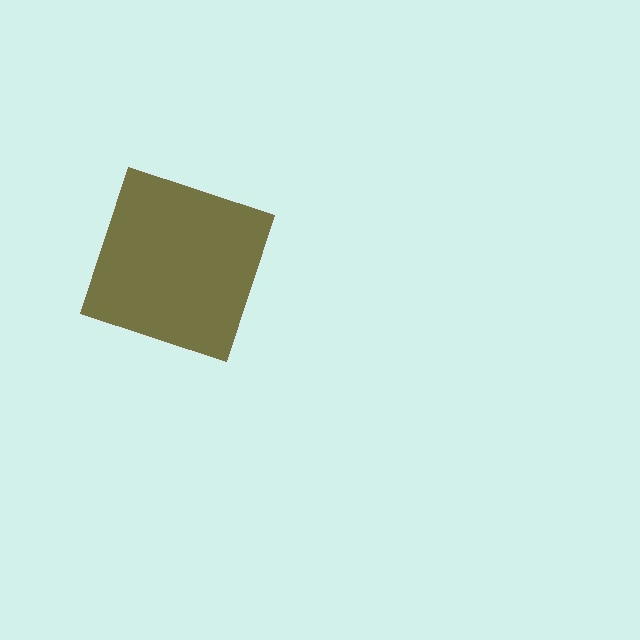square: (79, 166, 274, 362)
